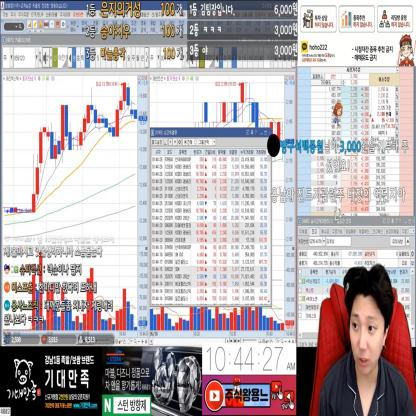donation: (266, 100, 410, 224)
streamer: (319, 263, 416, 416)
